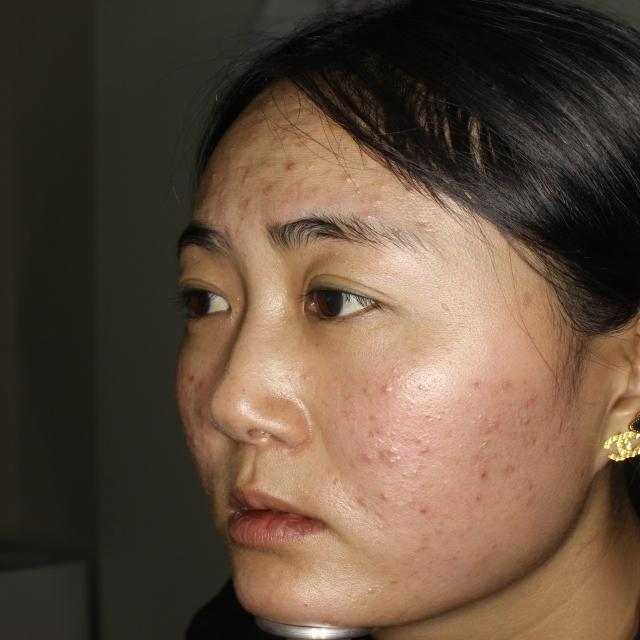Acne: (218, 144, 270, 203), (483, 416, 544, 454), (338, 166, 390, 210), (356, 411, 418, 442), (250, 95, 299, 134), (361, 444, 422, 474), (348, 491, 393, 527), (473, 373, 529, 400), (278, 153, 314, 194), (188, 414, 213, 464), (177, 359, 206, 401), (478, 464, 505, 508), (404, 542, 462, 562), (356, 376, 402, 401), (524, 475, 550, 515), (420, 382, 452, 413), (316, 604, 349, 630), (416, 494, 442, 526), (385, 572, 407, 602), (520, 282, 542, 307)
